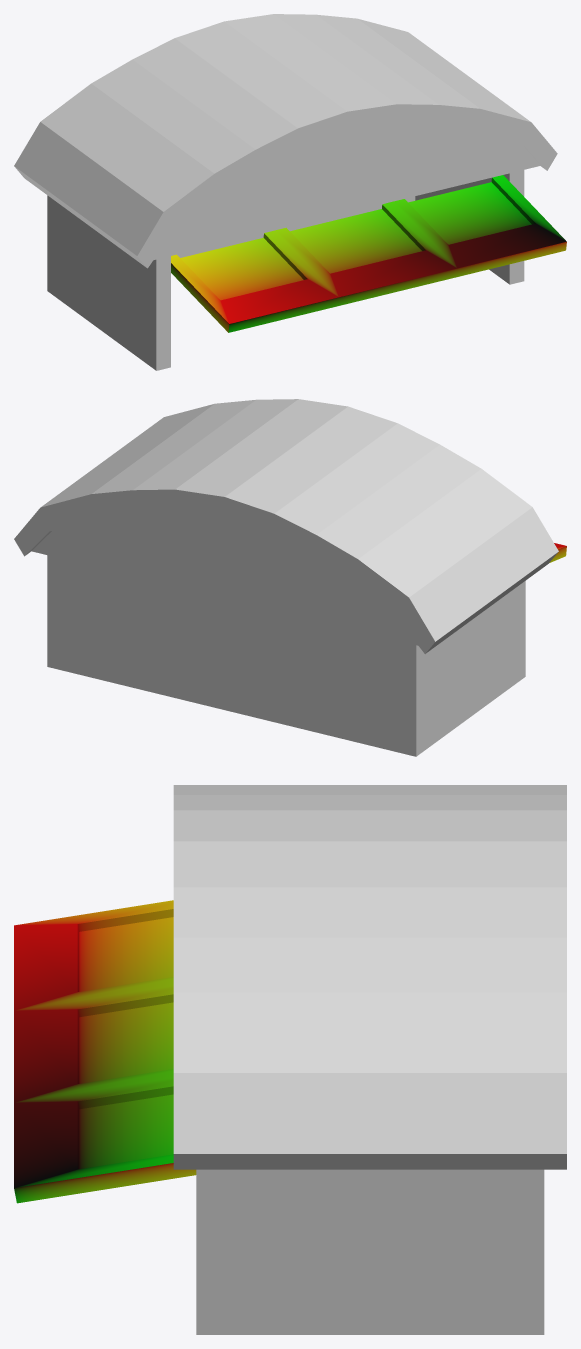
File: FeiJiChang3_Mo.fbx
The picture shows the model from 3 angles, top to bottom: view 1: azimuth 30°, elevation 25°; view 2: azimuth 150°, elevation 25°; view 3: azimuth 270°, elevation 25°; orthographic projection. The views are drawn at different scales.
Visible parts, largest first — view 1: Cylinder004; view 2: Cylinder004; view 3: Cylinder004.
Part boxes in pixels (x1,y1,x2,y2): Cylinder004: (14, 14, 566, 370); Cylinder004: (14, 399, 566, 756); Cylinder004: (14, 785, 566, 1334).
Size of the model in its own units: 1592 by 795 by 1137.
